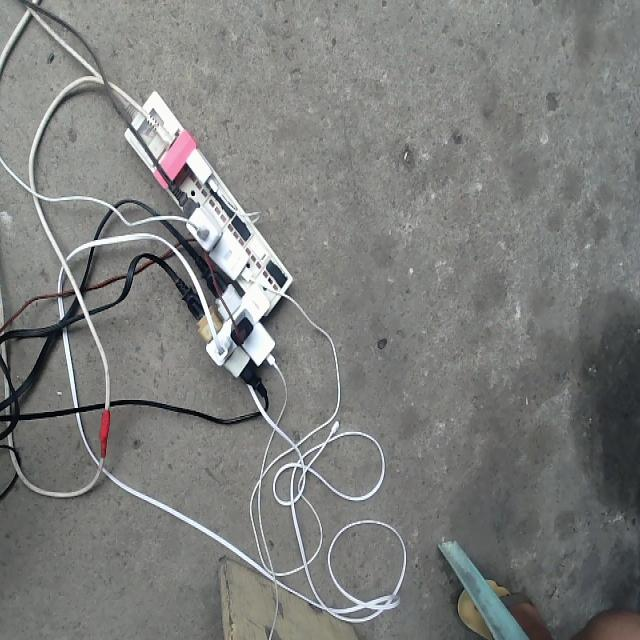-: (119, 87, 291, 396)
